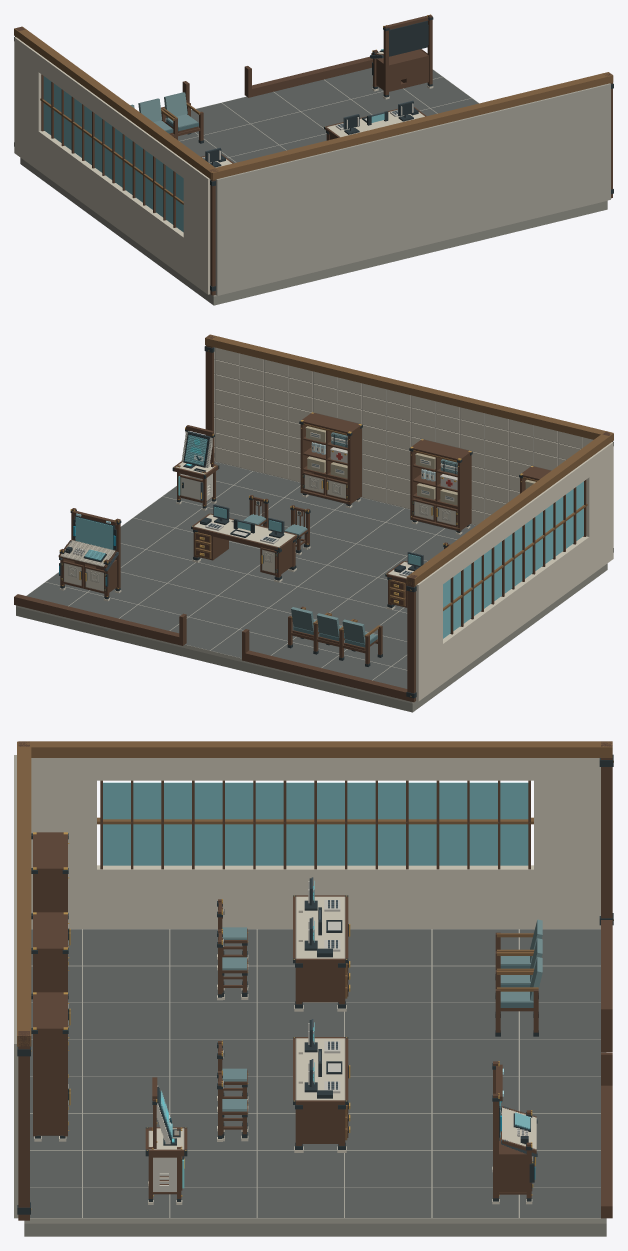
The model's file is visual-far.glb.
The picture shows the model from 3 angles, top to bottom: view 1: azimuth 30°, elevation 25°; view 2: azimuth 150°, elevation 25°; view 3: azimuth 270°, elevation 25°; orthographic projection. The views are drawn at different scales.
Visible parts, largest first — view 1: 真实窗洞、木梁与切角房间墙, 分层实心台基与独立石铺面, 城市信息查询终端 · 独立光学用途, 三席连座与连续倾斜靠背, 边境/移民办理台; view 2: 真实窗洞、木梁与切角房间墙, 分层实心台基与独立石铺面, 慈善救济柜 (×2), 边境/移民办理台 (×2), 城市信息查询终端 · 独立光学用途, 三席连座与连续倾斜靠背, 投票箱/核验台, 餐椅 (×2); view 3: 分层实心台基与独立石铺面, 真实窗洞、木梁与切角房间墙, 边境/移民办理台 (×2), 慈善救济柜 (×3), 城市信息查询终端 · 独立光学用途, 餐椅 (×4), 三席连座与连续倾斜靠背, 投票箱/核验台.
Boxes of the visible parts, bbox=[...] form: 真实窗洞、木梁与切角房间墙: bbox=[14, 26, 613, 295]; 分层实心台基与独立石铺面: bbox=[20, 68, 607, 305]; 城市信息查询终端 · 独立光学用途: bbox=[370, 14, 433, 99]; 三席连座与连续倾斜靠背: bbox=[130, 92, 203, 143]; 边境/移民办理台: bbox=[324, 100, 426, 140]; 真实窗洞、木梁与切角房间墙: bbox=[14, 334, 613, 702]; 分层实心台基与独立石铺面: bbox=[16, 461, 607, 712]; 慈善救济柜 (×2): bbox=[299, 412, 472, 534]; 边境/移民办理台 (×2): bbox=[191, 504, 423, 609]; 城市信息查询终端 · 独立光学用途: bbox=[58, 508, 121, 601]; 三席连座与连续倾斜靠背: bbox=[287, 606, 382, 666]; 投票箱/核验台: bbox=[172, 425, 219, 510]; 餐椅 (×2): bbox=[243, 495, 310, 555]; 分层实心台基与独立石铺面: bbox=[24, 929, 606, 1236]; 真实窗洞、木梁与切角房间墙: bbox=[14, 741, 613, 1220]; 边境/移民办理台 (×2): bbox=[293, 877, 350, 1152]; 慈善救济柜 (×3): bbox=[31, 832, 70, 1141]; 城市信息查询终端 · 独立光学用途: bbox=[492, 1061, 537, 1204]; 餐椅 (×4): bbox=[217, 899, 248, 1141]; 三席连座与连续倾斜靠背: bbox=[495, 919, 542, 1036]; 投票箱/核验台: bbox=[145, 1077, 187, 1204].
Bounding box in the file's own units: 9.63 × 3.08 × 8.24.
Materials: 30 (30 with a texture image).
